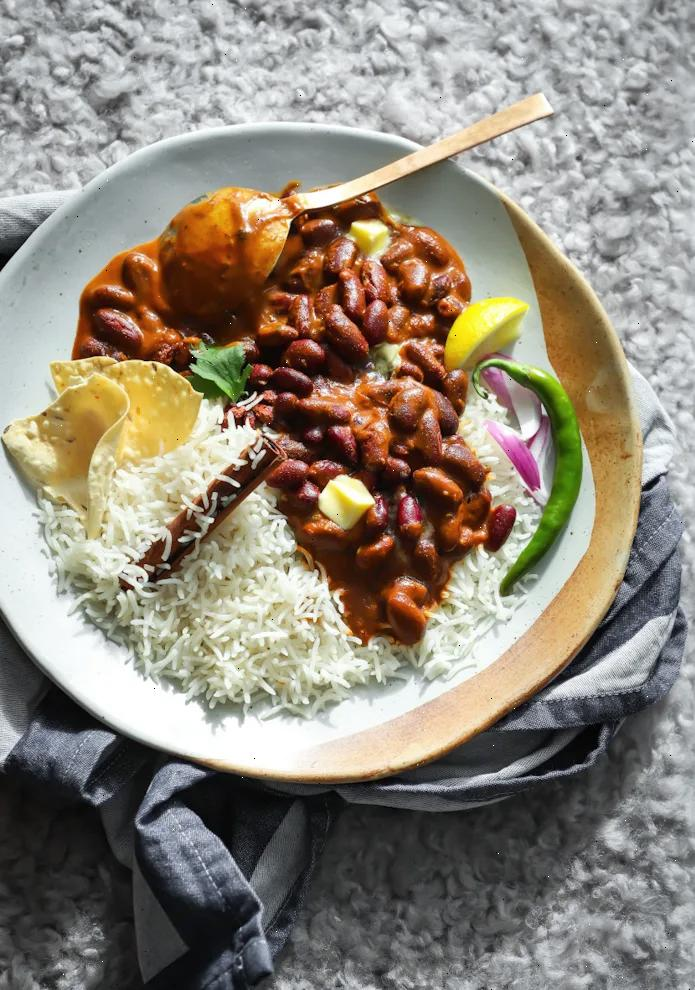rajma: (292, 217, 485, 562)
rice: (83, 505, 312, 682)
